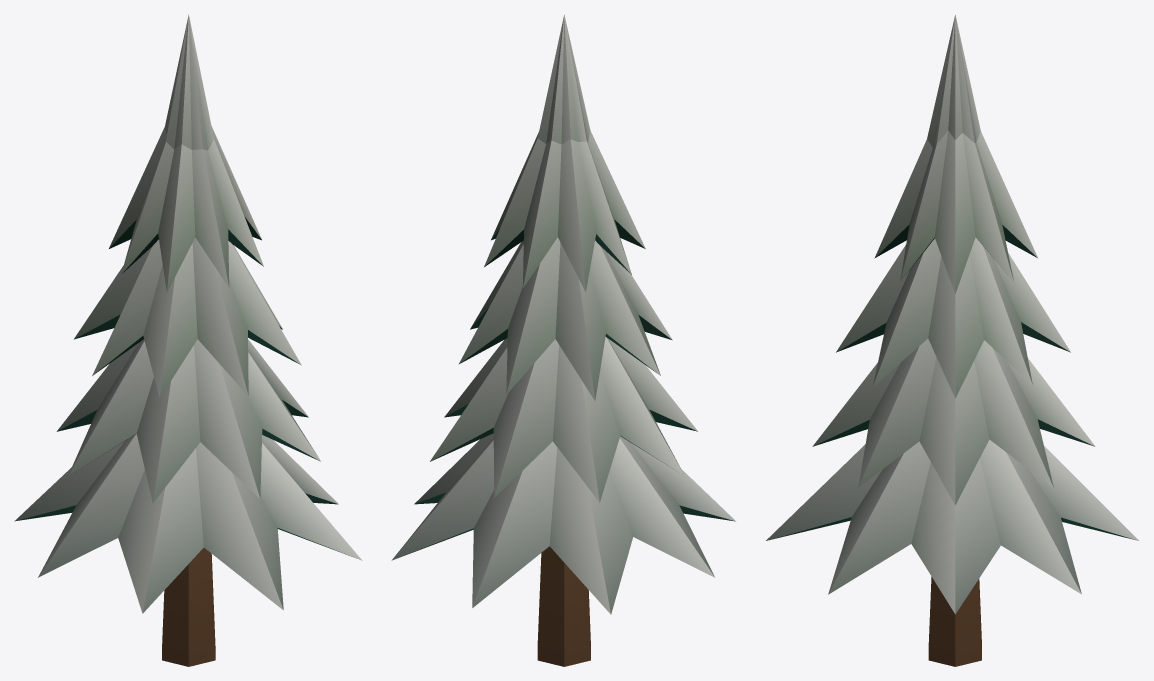
3 renders of one model, left to right at view 1: azimuth 30°, elevation 25°; view 2: azimuth 150°, elevation 25°; view 3: azimuth 270°, elevation 25°, orthographic.
Visible parts, largest first — view 1: prop_pine_snow; view 2: prop_pine_snow; view 3: prop_pine_snow.
Boxes of the visible parts, x1,y1,x2,y2 form: prop_pine_snow: [14, 14, 362, 666]; prop_pine_snow: [391, 14, 736, 666]; prop_pine_snow: [766, 15, 1138, 666].
Bounding box in the file's own units: 3.45 × 7 × 3.71.
